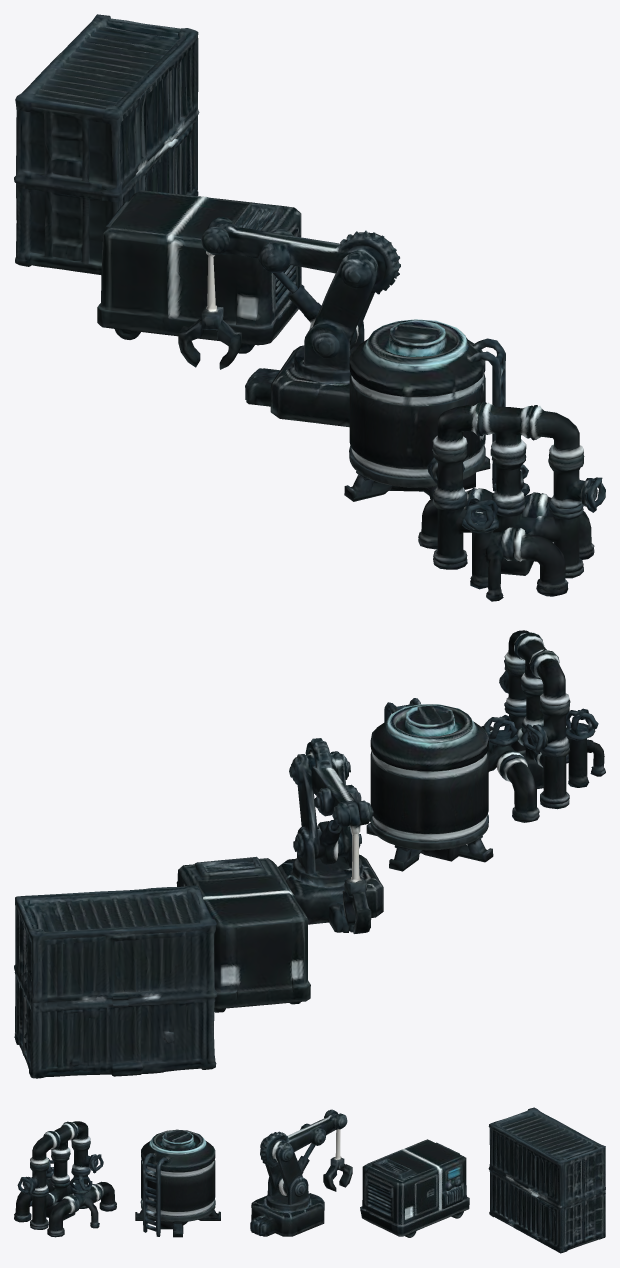
The model's file is props_L2_industrial.glb.
3 renders of one model, top to bottom at view 1: azimuth 30°, elevation 25°; view 2: azimuth 150°, elevation 25°; view 3: azimuth 270°, elevation 25°, orthographic. The views are drawn at different scales.
Parts seen in each view (by area): view 1: tripo_node_8cbcf82b-a8d1-42f1-9f36-590eed3c5584; view 2: tripo_node_8cbcf82b-a8d1-42f1-9f36-590eed3c5584; view 3: tripo_node_8cbcf82b-a8d1-42f1-9f36-590eed3c5584.
Part boxes in pixels (bbox=[...]): tripo_node_8cbcf82b-a8d1-42f1-9f36-590eed3c5584: bbox=[14, 14, 605, 601]; tripo_node_8cbcf82b-a8d1-42f1-9f36-590eed3c5584: bbox=[14, 630, 605, 1078]; tripo_node_8cbcf82b-a8d1-42f1-9f36-590eed3c5584: bbox=[14, 1107, 605, 1253].
Bounding box in the file's own units: 0.23 × 0.1819 × 0.9793.
1 material, 1 textured.
